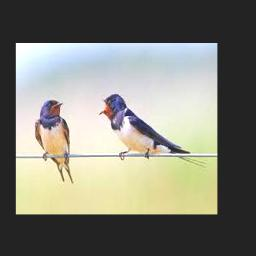Swallow: (97, 93, 207, 168), (35, 98, 72, 184)
